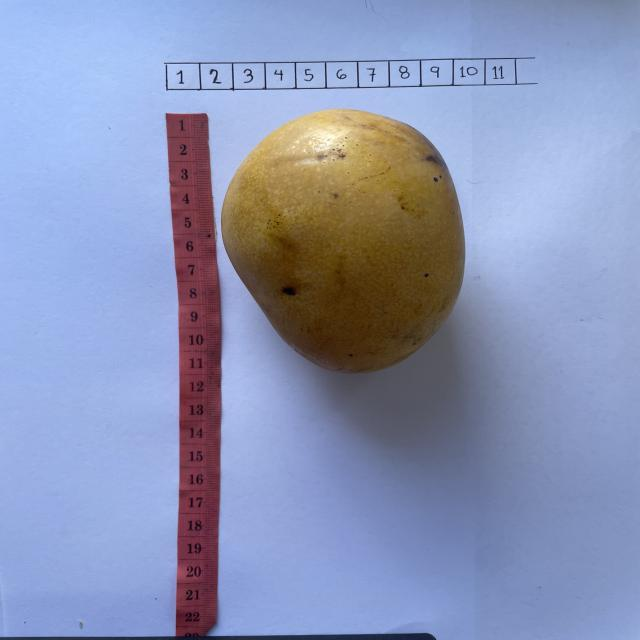Ripe: (220, 108, 467, 376)
